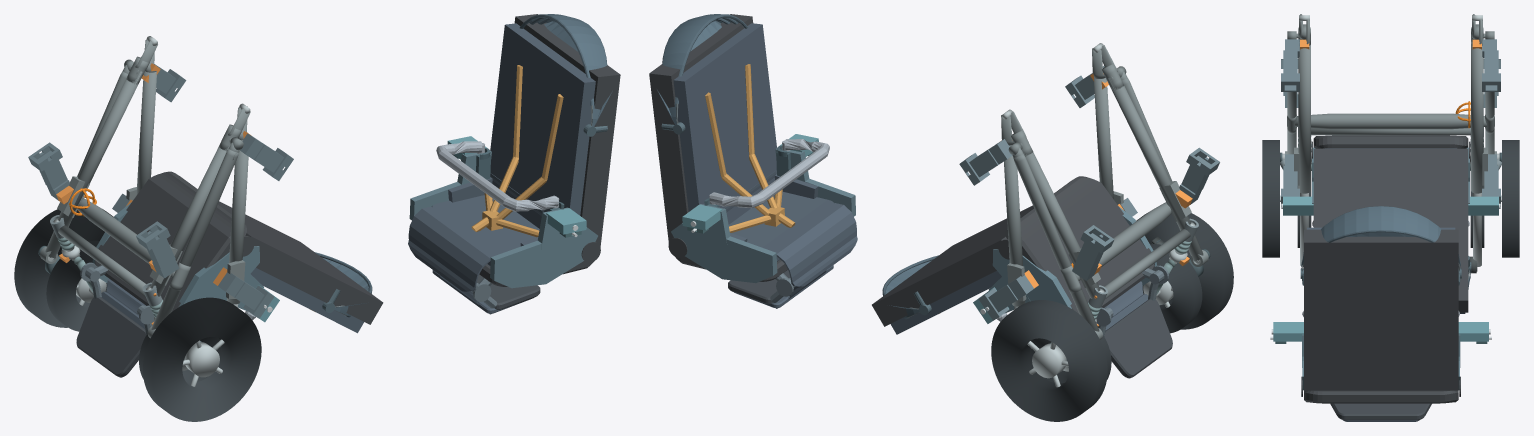
File: D02_w550_state3_wheel_M.glb
The picture shows the model from 3 angles, left to right: view 1: azimuth 30°, elevation 25°; view 2: azimuth 150°, elevation 25°; view 3: azimuth 270°, elevation 25°; orthographic projection. The views are drawn at different scales.
Visible parts, largest first — view 1: D02_Front_Backrest, RL_tire.004, D02_Rear_Backrest, D02_Rear_Shell, D02_Front, D02_Front_Shell, D02_Front_KneeCover, D02_Rear_Legrest, RR_tire.004, D02_Rear, FR_tire.004, D02_Front_FullGuard (+19 smaller); view 2: D02_Front_Backrest, RR_tire.004, D02_Rear_Backrest, D02_Rear_Shell, D02_Front, D02_Front_Shell, D02_Front_KneeCover, D02_Rear_Legrest, RL_tire.004, D02_Rear, FL_tire.004, D02_Front_FullGuard (+19 smaller); view 3: D02_Front_Backrest, D02_Rear_Backrest, D02_Front_Canopy, V46_rearbar.005, D02_Rear_Shell, D02_Front_Shell, RL_tire.004, RR_tire.004, main_upper_1.005, main_upper_-1.005, D02_Front_Legrest, D02_Front (+11 smaller).
Boxes of the visible parts, x1,y1,x2,y2 form: D02_Front_Backrest: (490,14,620,246); RL_tire.004: (143,297,261,421); D02_Rear_Backrest: (218,201,383,333); D02_Rear_Shell: (95,171,254,311); D02_Front: (409,136,597,288); D02_Front_Shell: (431,148,600,286); D02_Front_KneeCover: (408,206,496,314); D02_Rear_Legrest: (76,280,152,377); RR_tire.004: (14,209,113,327); D02_Rear: (92,202,279,322); FR_tire.004: (46,240,107,331); D02_Front_FullGuard: (436,141,559,211); D02_Front_Backrest: (649,14,776,242); RR_tire.004: (991,300,1107,421); D02_Rear_Backrest: (872,205,1033,334); D02_Rear_Shell: (998,176,1154,313); D02_Front: (671,134,855,283); D02_Front_Shell: (668,145,834,281); D02_Front_KneeCover: (770,203,857,308); D02_Rear_Legrest: (1098,283,1172,378); RL_tire.004: (1136,213,1233,329); D02_Rear: (973,206,1157,323); FL_tire.004: (1142,244,1202,333); D02_Front_FullGuard: (709,139,829,208); D02_Front_Backrest: (1304,227,1458,390); D02_Rear_Backrest: (1313,148,1468,313); D02_Front_Canopy: (1301,206,1461,270); V46_rearbar.005: (1295,113,1486,129); D02_Rear_Shell: (1311,135,1470,161); D02_Front_Shell: (1301,376,1460,403); RL_tire.004: (1262,140,1279,257); RR_tire.004: (1502,140,1519,257); main_upper_1.005: (1471,44,1483,193); main_upper_-1.005: (1298,44,1310,193); D02_Front_Legrest: (1330,403,1431,421); D02_Front: (1270,322,1491,390).
Size of the model in its own units: 1.37 by 0.7426 by 0.656.
